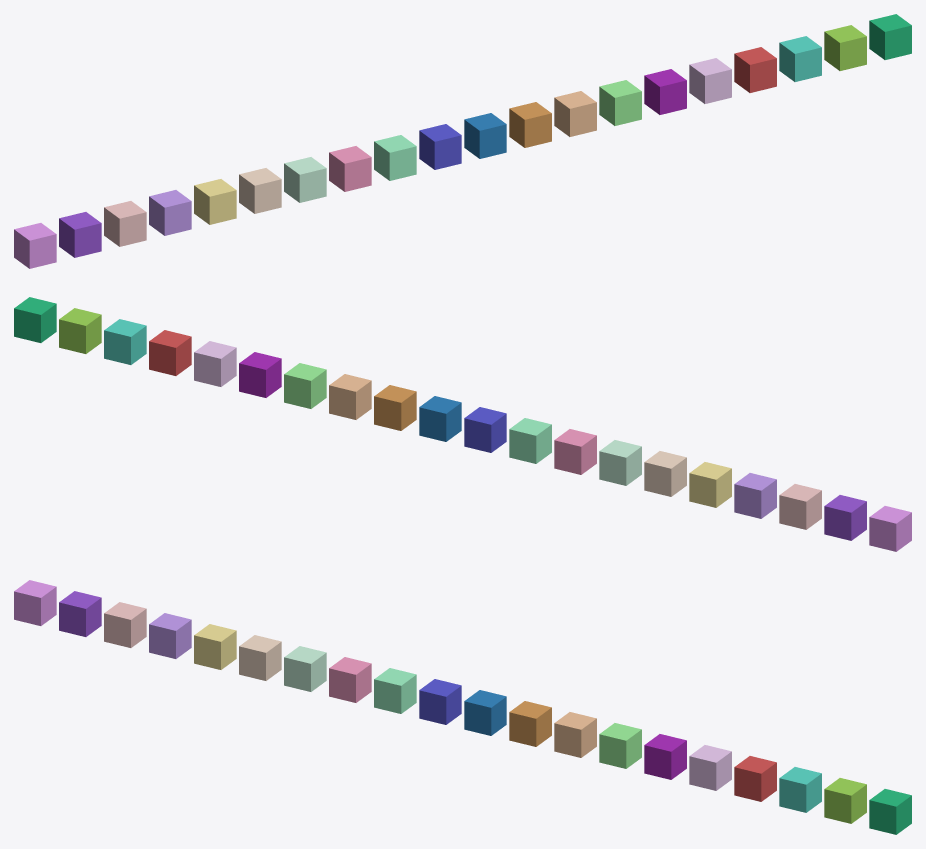
3 views of the same model, one above another, from view 1: azimuth 30°, elevation 25°; view 2: azimuth 150°, elevation 25°; view 3: azimuth 330°, elevation 25° (orthographic).
Visible parts, largest first — view 1: Node4, Node5, Node6, Node15, Node16, Node17, Node1, Node2, Node3, Node7, Node8, Node9 (+8 smaller); view 2: Node4, Node5, Node6, Node15, Node16, Node17, Node1, Node2, Node3, Node7, Node8, Node9 (+8 smaller); view 3: Node4, Node5, Node6, Node15, Node16, Node17, Node1, Node2, Node3, Node7, Node8, Node9 (+8 smaller).
Part boxes in pixels (left/top/right/bottom): Node4: left=149, top=190, right=191, bottom=235; Node5: left=194, top=179, right=236, bottom=224; Node6: left=239, top=168, right=281, bottom=213; Node15: left=644, top=69, right=686, bottom=114; Node16: left=689, top=58, right=731, bottom=103; Node17: left=734, top=47, right=776, bottom=92; Node1: left=14, top=223, right=56, bottom=268; Node2: left=59, top=212, right=101, bottom=257; Node3: left=104, top=201, right=146, bottom=246; Node7: left=284, top=157, right=326, bottom=202; Node8: left=329, top=146, right=371, bottom=191; Node9: left=374, top=135, right=416, bottom=180; Node4: left=734, top=473, right=776, bottom=518; Node5: left=689, top=462, right=731, bottom=507; Node6: left=644, top=451, right=686, bottom=496; Node15: left=239, top=352, right=281, bottom=397; Node16: left=194, top=341, right=236, bottom=386; Node17: left=149, top=330, right=191, bottom=375; Node1: left=869, top=506, right=911, bottom=551; Node2: left=824, top=495, right=866, bottom=540; Node3: left=779, top=484, right=821, bottom=529; Node7: left=599, top=440, right=641, bottom=485; Node8: left=554, top=429, right=596, bottom=474; Node9: left=509, top=418, right=551, bottom=463; Node4: left=149, top=613, right=191, bottom=658; Node5: left=194, top=624, right=236, bottom=669; Node6: left=239, top=635, right=281, bottom=680; Node15: left=644, top=734, right=686, bottom=779; Node16: left=689, top=745, right=731, bottom=790; Node17: left=734, top=756, right=776, bottom=801; Node1: left=14, top=580, right=56, bottom=625; Node2: left=59, top=591, right=101, bottom=636; Node3: left=104, top=602, right=146, bottom=647; Node7: left=284, top=646, right=326, bottom=691; Node8: left=329, top=657, right=371, bottom=702; Node9: left=374, top=668, right=416, bottom=713.
Size of the model in its own units: 196 by 6 by 6.
